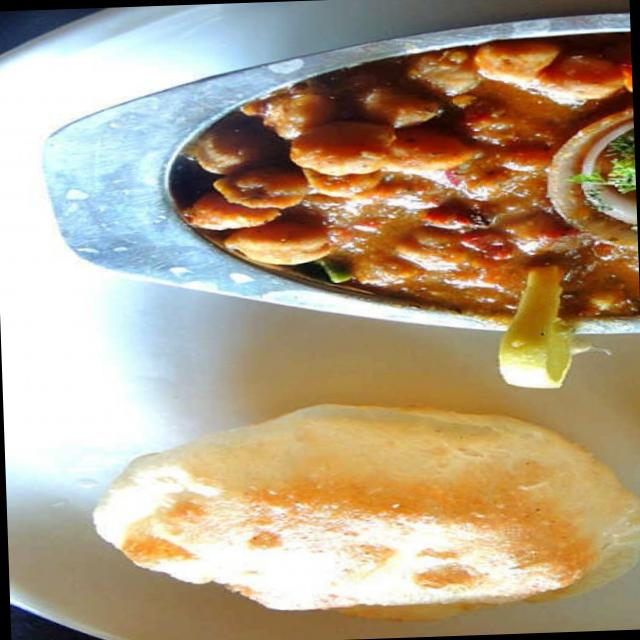Bhatura: (91, 382, 640, 635)
